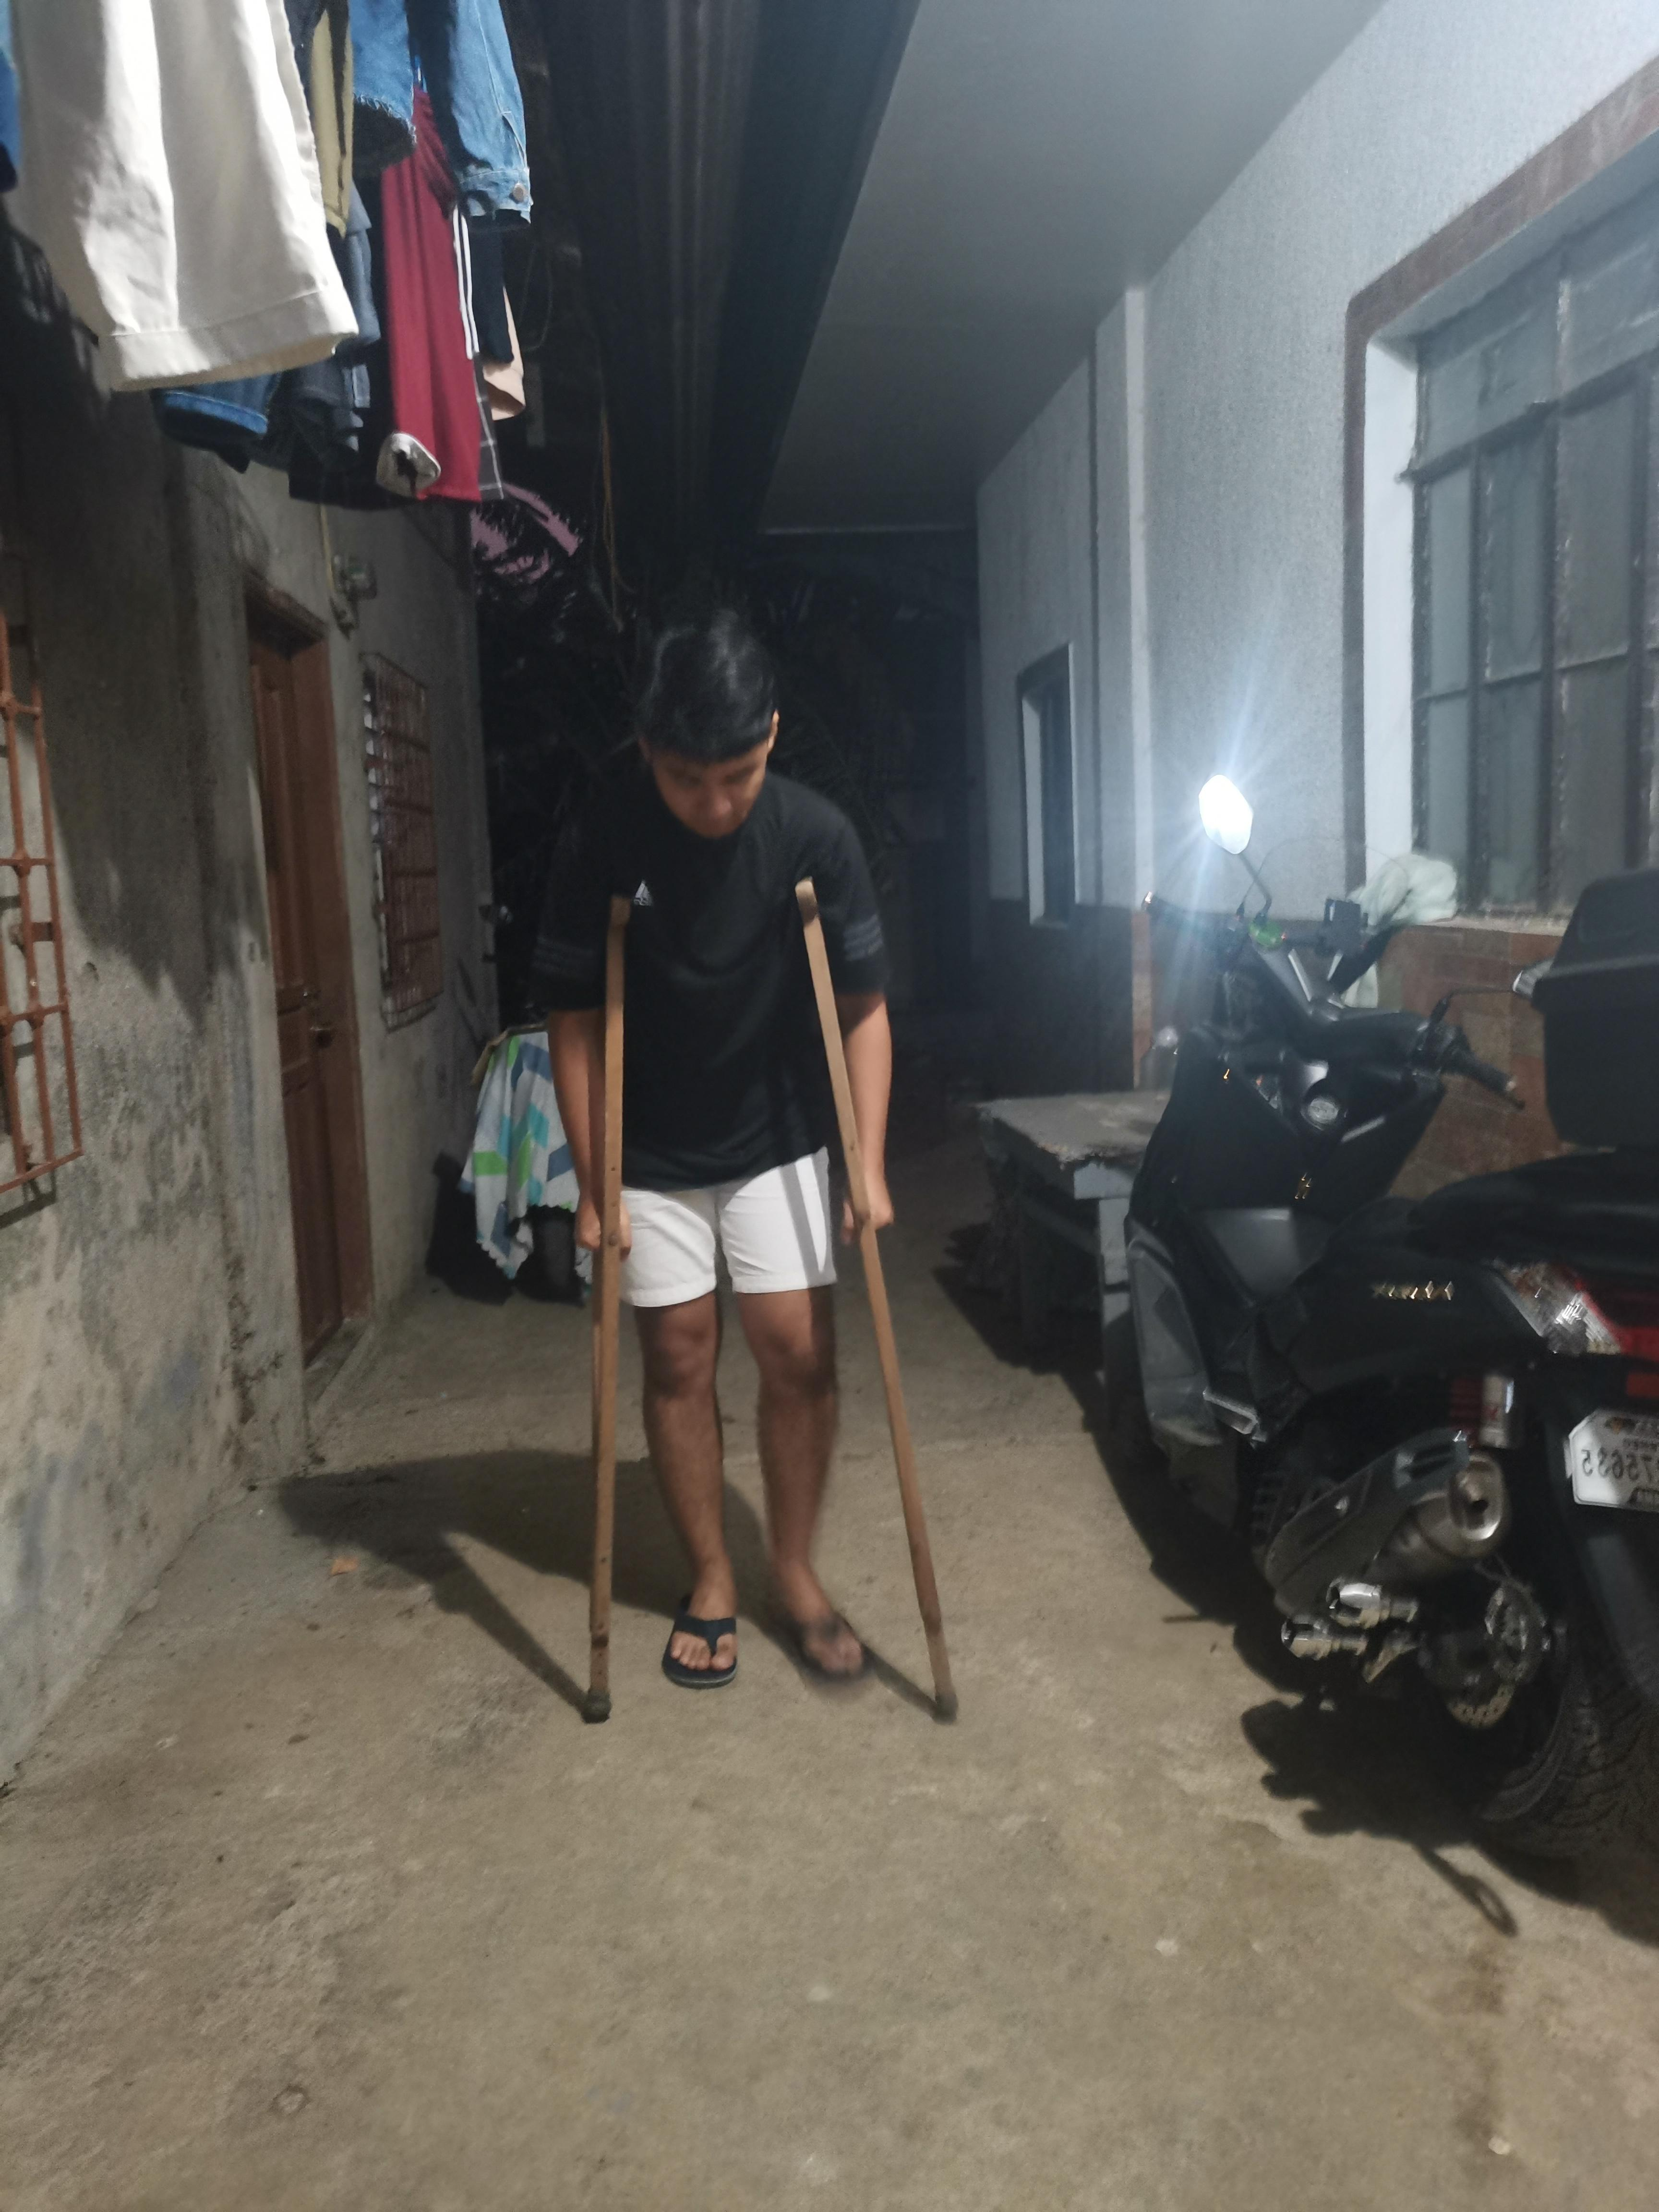crutches: (519, 592, 979, 1747)
